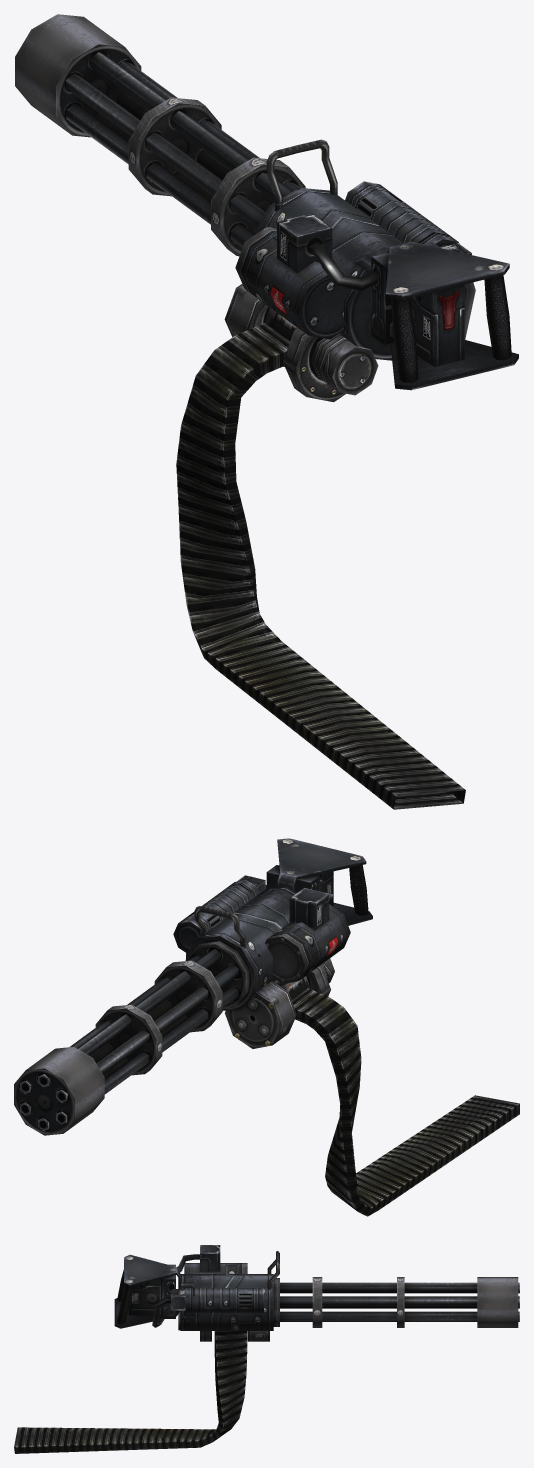
The model's file is Minigun.fbx.
3 renders of one model, top to bottom at view 1: azimuth 30°, elevation 25°; view 2: azimuth 150°, elevation 25°; view 3: azimuth 270°, elevation 25°, orthographic. The views are drawn at different scales.
Visible parts, largest first — view 1: Minigun, MinigunBarrels; view 2: Minigun, MinigunBarrels; view 3: Minigun, MinigunBarrels.
Part boxes in pixels (box(x1,y1,x2,y2)): Minigun: box(176, 139, 518, 809); MinigunBarrels: box(15, 14, 305, 256); Minigun: box(173, 838, 519, 1216); MinigunBarrels: box(14, 941, 249, 1135); Minigun: box(14, 1245, 279, 1453); MinigunBarrels: box(273, 1277, 519, 1327).
Size of the model in its own units: 26.05 by 46.27 by 95.9.
